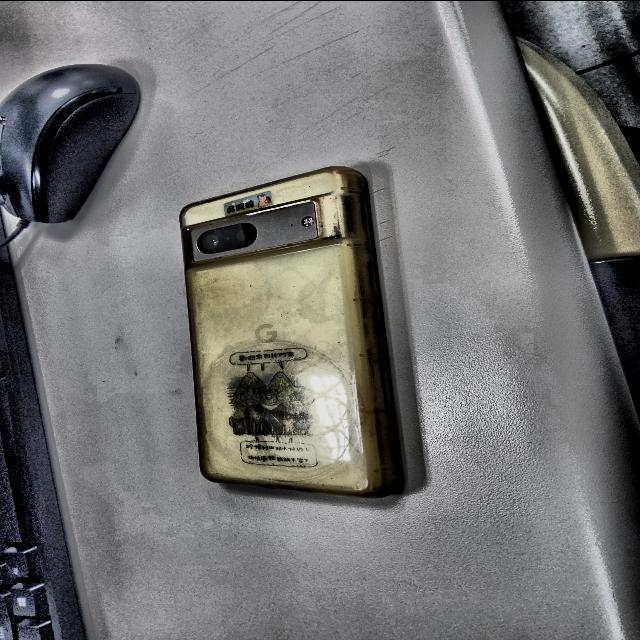Keyboard: (0, 245, 87, 640)
MOUSE: (0, 63, 140, 223)
PHONE: (180, 166, 402, 497)
